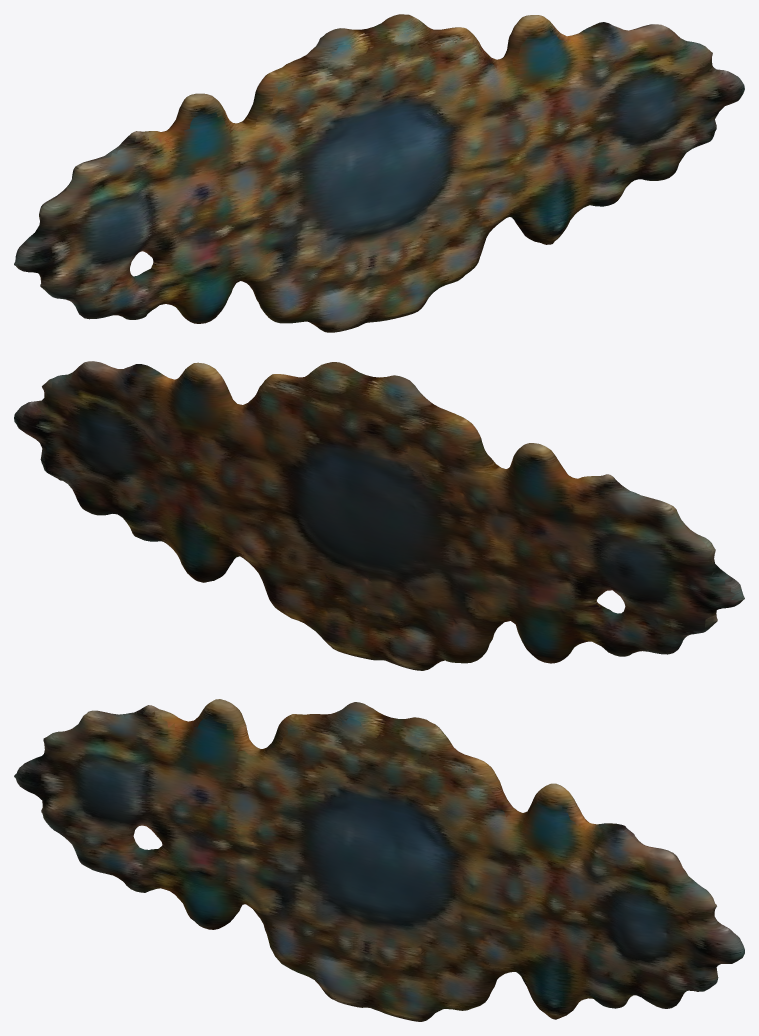
The model's file is kfl-2231.glb.
3 views of the same model, one above another, from view 1: azimuth 30°, elevation 25°; view 2: azimuth 150°, elevation 25°; view 3: azimuth 330°, elevation 25° (orthographic).
Parts seen in each view (by area): view 1: geometry_0; view 2: geometry_0; view 3: geometry_0.
Part boxes in pixels (x1=…): geometry_0: x1=14, y1=14, x2=744, y2=332; geometry_0: x1=14, y1=361, x2=744, y2=670; geometry_0: x1=14, y1=699, x2=744, y2=1021.
Bounding box in the file's own units: 0.9848 × 0.3811 × 0.0644.
1 material, 1 textured.
